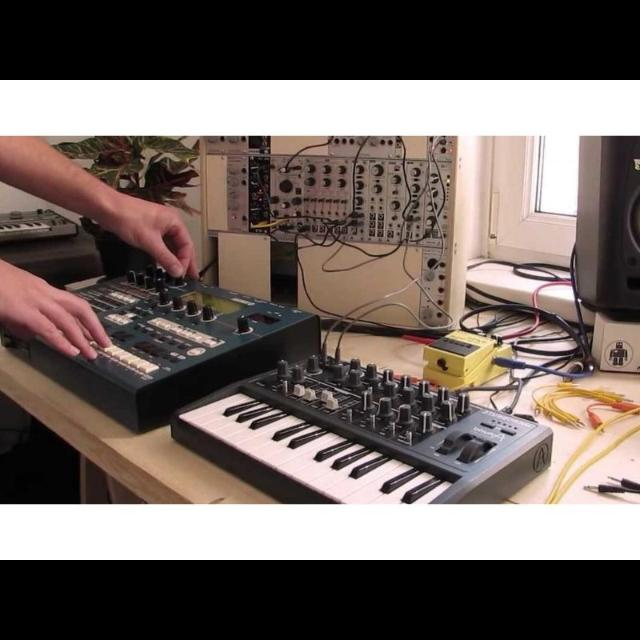Electronic-Keyboard: (221, 344, 553, 496)
